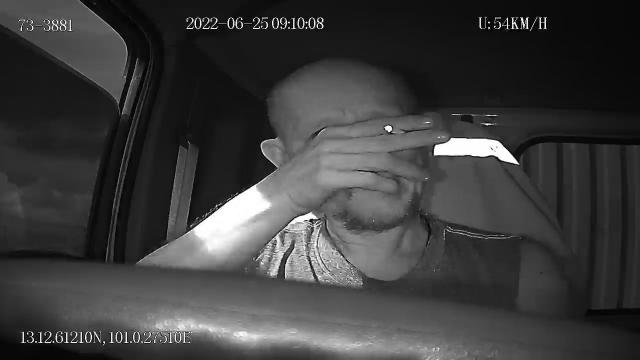Cigarette: (384, 122, 408, 134)
